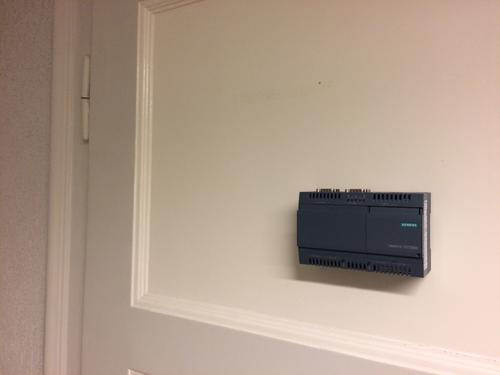iot2000: (295, 187, 432, 278)
